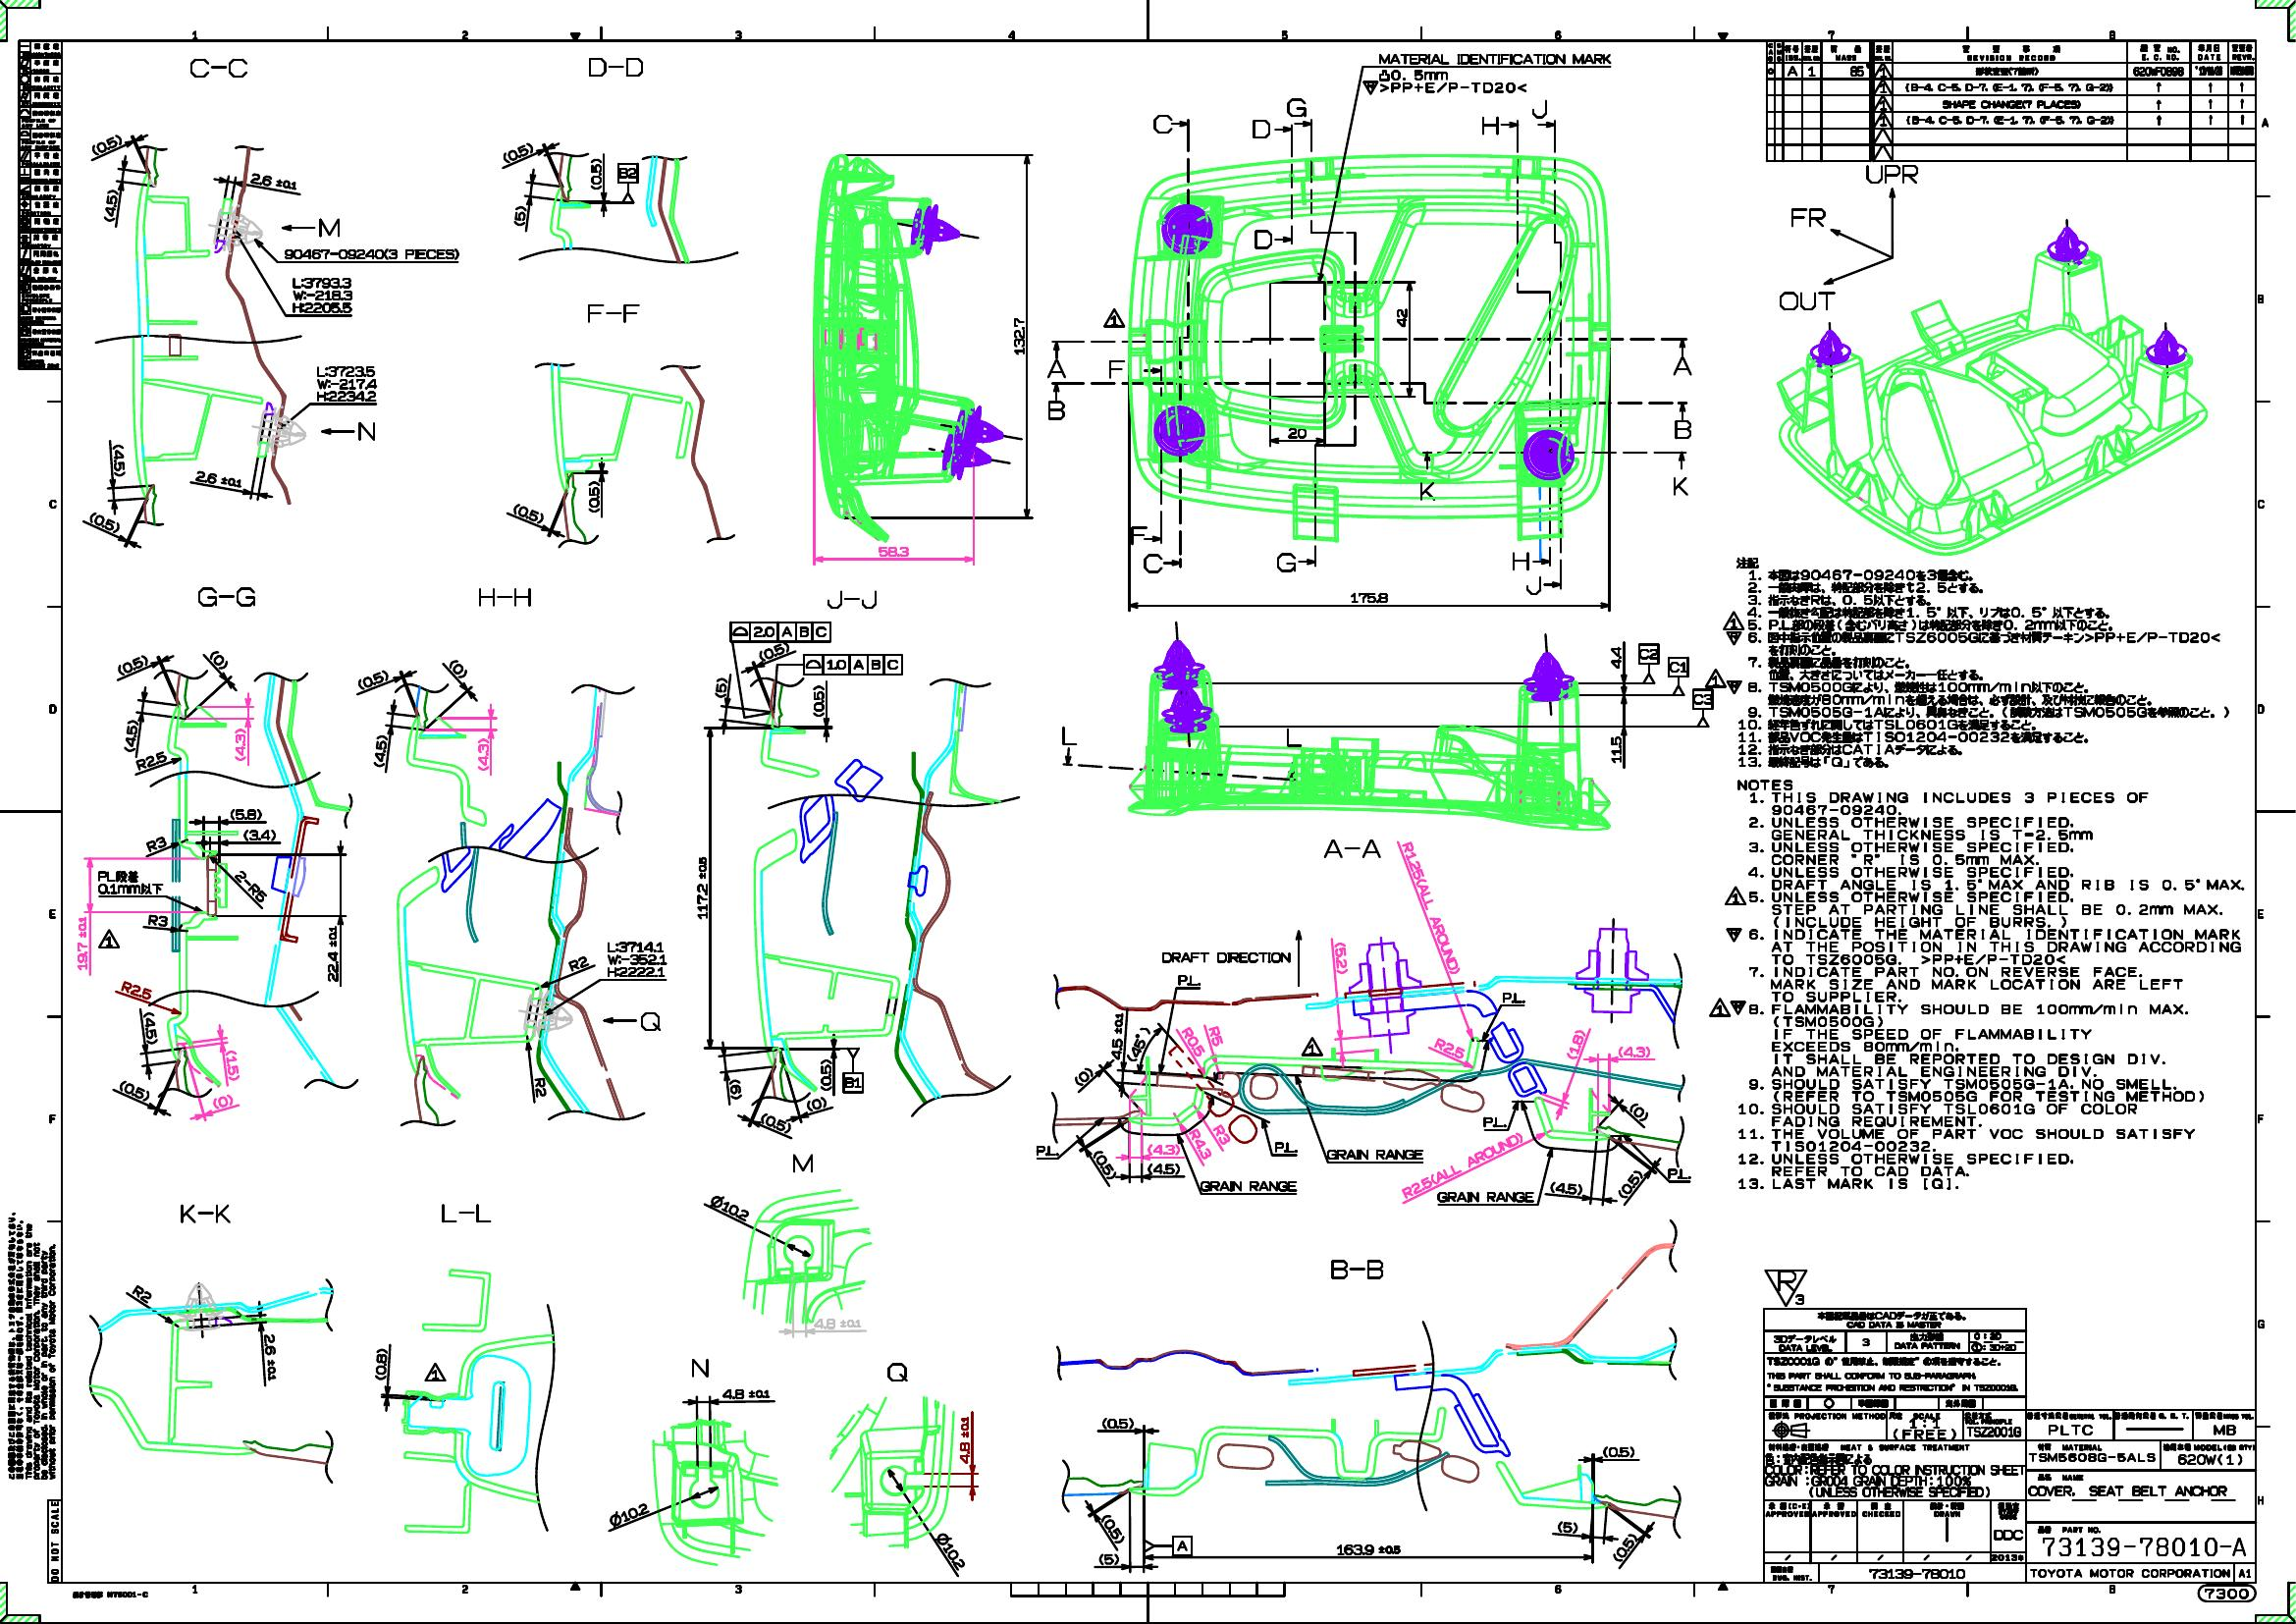anntotation_text: (1723, 555, 2247, 1193), (5, 1211, 56, 1480), (1361, 53, 1613, 95), (283, 248, 460, 260), (731, 622, 831, 642), (803, 654, 903, 673), (1360, 902, 1502, 914), (1764, 1269, 1808, 1308), (97, 870, 163, 895), (1161, 951, 1291, 963), (1397, 1160, 1530, 1171), (1200, 1179, 1296, 1192), (1780, 290, 1836, 311), (2198, 1584, 2257, 1603), (588, 56, 643, 77), (1330, 1258, 1384, 1280), (1323, 838, 1381, 858), (190, 58, 248, 77), (197, 587, 255, 606), (179, 1202, 232, 1223), (441, 1202, 490, 1223), (478, 587, 531, 606), (1326, 1149, 1423, 1160), (1437, 1192, 1534, 1202), (1866, 163, 1918, 183), (587, 304, 639, 323), (826, 591, 877, 608), (1790, 207, 1825, 227), (708, 1199, 750, 1213), (72, 1591, 148, 1598), (97, 928, 121, 949), (639, 1011, 662, 1032), (318, 216, 339, 237), (1704, 668, 1725, 689), (1103, 308, 1124, 329), (1275, 552, 1296, 573), (423, 1362, 446, 1381), (887, 1362, 908, 1381), (1667, 657, 1688, 677), (841, 1072, 863, 1091), (792, 1153, 813, 1172), (1286, 97, 1307, 116), (1142, 554, 1163, 573), (617, 163, 638, 183), (1693, 689, 1713, 708), (1639, 643, 1658, 663), (1251, 120, 1270, 139), (1152, 114, 1172, 134), (1047, 359, 1066, 378), (1672, 357, 1692, 376), (1254, 228, 1272, 250), (1047, 399, 1065, 420), (1513, 550, 1530, 571), (1173, 1536, 1191, 1555), (690, 1359, 708, 1378), (357, 422, 374, 441), (1481, 116, 1498, 135), (1674, 420, 1692, 439), (1532, 98, 1548, 120), (1525, 575, 1541, 596), (1286, 728, 1302, 747), (1061, 726, 1077, 745), (1108, 359, 1124, 378), (1419, 482, 1435, 501), (1672, 476, 1688, 496), (1667, 1167, 1692, 1179), (1274, 1141, 1298, 1153), (1177, 974, 1200, 986), (1502, 991, 1525, 1004), (1036, 1144, 1059, 1156), (1131, 526, 1147, 543), (1483, 1116, 1507, 1127)
dimension_text: (606, 940, 668, 977), (316, 366, 378, 401), (292, 278, 353, 313), (696, 856, 708, 919), (1337, 1543, 1400, 1555), (327, 924, 339, 982), (931, 1543, 973, 1557), (195, 473, 242, 485), (77, 916, 88, 970), (608, 1506, 648, 1520), (722, 1388, 771, 1399), (813, 1318, 861, 1329), (249, 176, 297, 186), (265, 1334, 276, 1381), (959, 1417, 970, 1464), (232, 881, 271, 893), (88, 515, 121, 529), (112, 445, 126, 476), (513, 506, 545, 520), (242, 828, 278, 840), (104, 188, 116, 221), (757, 645, 791, 657), (812, 684, 824, 717), (374, 735, 386, 768), (357, 673, 390, 685), (116, 659, 149, 671), (125, 719, 137, 752), (144, 1011, 156, 1044), (374, 1346, 386, 1380), (1096, 1522, 1130, 1534), (1014, 316, 1024, 355), (1349, 592, 1388, 603), (502, 146, 534, 158), (590, 158, 603, 190), (761, 1116, 792, 1128), (234, 728, 246, 759), (135, 754, 167, 766), (227, 1049, 239, 1081), (1101, 1417, 1133, 1429), (1609, 1541, 1641, 1554), (1602, 1445, 1634, 1457), (90, 139, 123, 149), (820, 1058, 831, 1091), (478, 738, 488, 772), (1609, 735, 1621, 763), (588, 480, 599, 511), (230, 808, 262, 819), (121, 984, 153, 995), (207, 652, 230, 666), (878, 547, 908, 557), (119, 1084, 149, 1095), (729, 1077, 741, 1100), (1609, 647, 1621, 668), (715, 677, 727, 698), (448, 663, 469, 675), (148, 914, 169, 926), (213, 1095, 234, 1107), (1556, 1520, 1578, 1533), (513, 206, 525, 225), (806, 1097, 826, 1109), (534, 1077, 546, 1097), (146, 838, 167, 849), (132, 1288, 153, 1299), (1098, 1554, 1119, 1564), (1397, 308, 1407, 327), (1288, 427, 1307, 438), (569, 958, 588, 968)
object: (1128, 153, 1613, 543), (1058, 1243, 1681, 1520), (1052, 916, 1683, 1153), (1778, 216, 2208, 555), (1126, 620, 1613, 833), (752, 682, 996, 1104), (395, 684, 625, 1125), (812, 153, 1022, 543), (165, 673, 350, 1095), (130, 146, 293, 526), (88, 1281, 334, 1464), (402, 1267, 555, 1534), (550, 364, 720, 543), (827, 1394, 956, 1548), (650, 1418, 780, 1566), (741, 1188, 873, 1323), (548, 153, 690, 264)
title_block: (1764, 1308, 2256, 1584), (1765, 39, 2256, 162), (19, 40, 61, 367)
